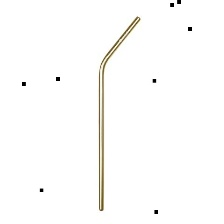drinking_straw: (91, 13, 145, 214)
